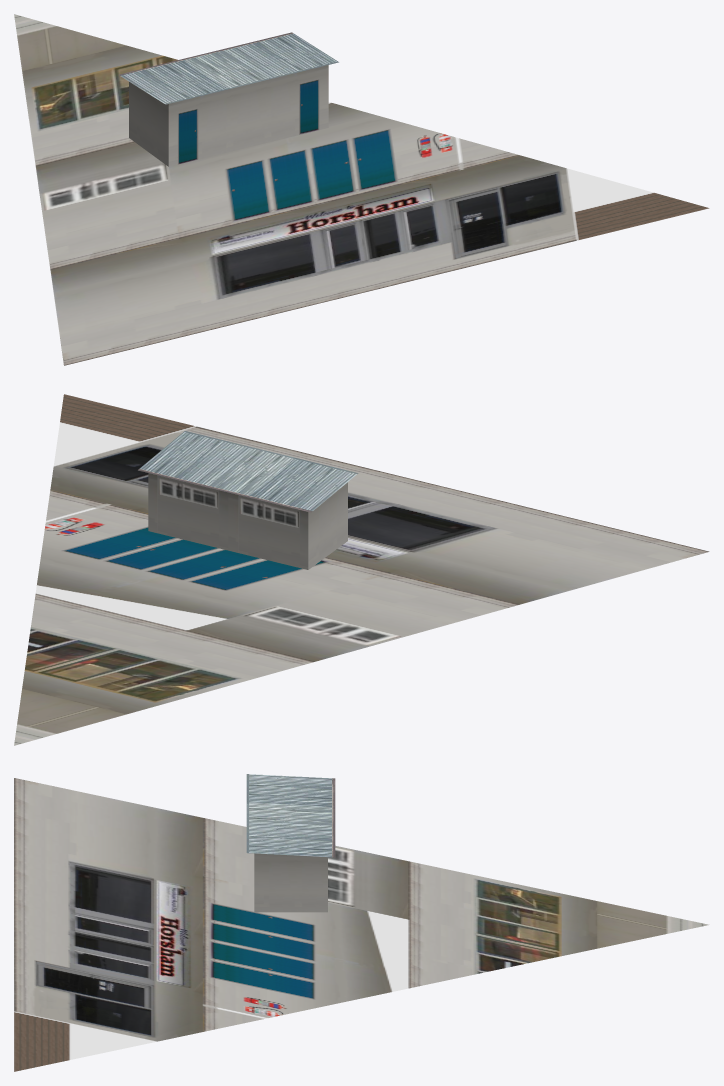
The model's file is shed-toilet-7x3x3-cbj_LOD01.gltf.
3 renders of one model, top to bottom at view 1: azimuth 30°, elevation 25°; view 2: azimuth 150°, elevation 25°; view 3: azimuth 270°, elevation 25°, orthographic. The views are drawn at different scales.
Visible parts, largest first — view 1: Sketchup01; view 2: Sketchup01; view 3: Sketchup01.
Boxes of the visible parts, x1=… form: Sketchup01: x1=14, y1=14, x2=709, y2=365; Sketchup01: x1=14, y1=394, x2=709, y2=745; Sketchup01: x1=14, y1=774, x2=709, y2=1071.
Size of the model in its own units: 28.26 by 4.79 by 28.26.
